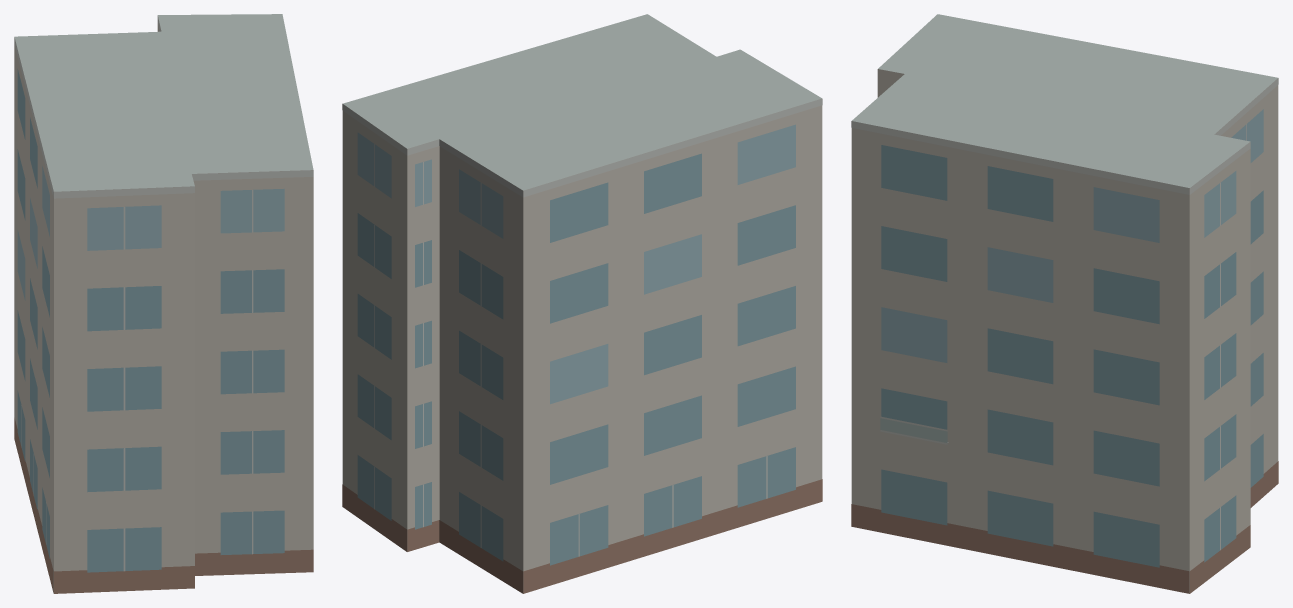
Rendered from survey-upis-32525501.glb.
3 views of the same model, side by side, from view 1: azimuth 30°, elevation 25°; view 2: azimuth 150°, elevation 25°; view 3: azimuth 270°, elevation 25° (orthographic).
Parts seen in each view (by area): view 1: survey-upis-32525501.tmp; view 2: survey-upis-32525501.tmp; view 3: survey-upis-32525501.tmp.
Part boxes in pixels (bbox=[...]): survey-upis-32525501.tmp: bbox=[14, 14, 313, 593]; survey-upis-32525501.tmp: bbox=[342, 14, 822, 593]; survey-upis-32525501.tmp: bbox=[851, 14, 1278, 593].
Bounding box in the file's own units: 13.26 × 14.4 × 13.74.
